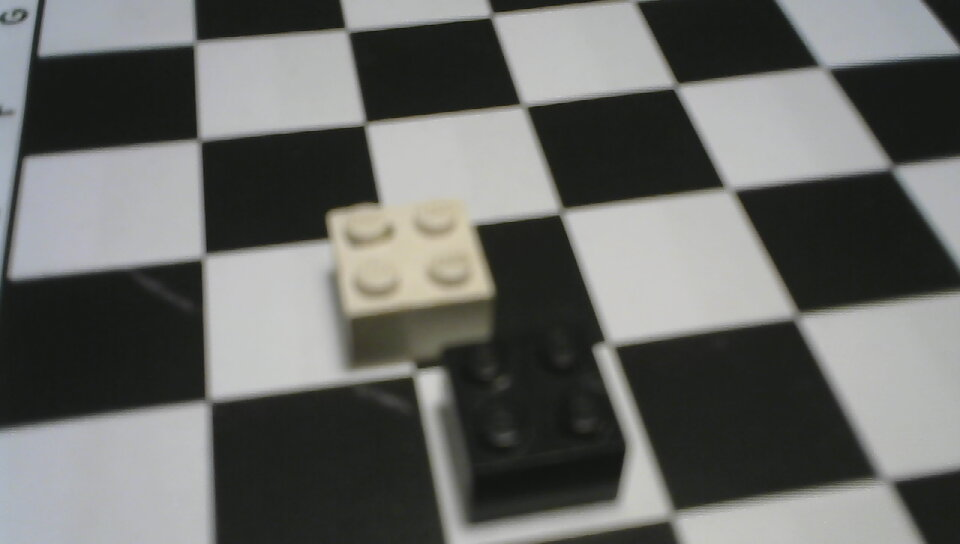wp: (320, 190, 509, 340)
